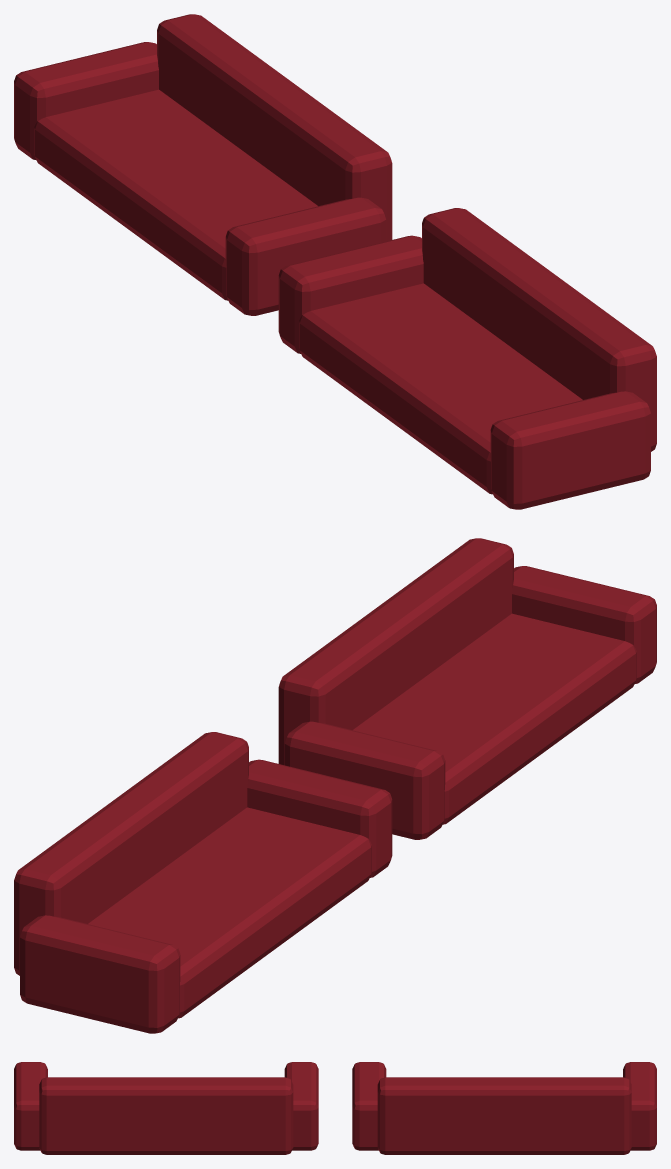
The model's file is Lounge.fbx.
The picture shows the model from 3 angles, top to bottom: view 1: azimuth 30°, elevation 25°; view 2: azimuth 150°, elevation 25°; view 3: azimuth 270°, elevation 25°; orthographic projection. The views are drawn at different scales.
Visible parts, largest first — view 1: SofaSeat0.001; view 2: SofaSeat0.001; view 3: SofaSeat0.001.
Boxes of the visible parts, x1,y1,x2,y2 form: SofaSeat0.001: [14, 14, 656, 509]; SofaSeat0.001: [14, 538, 656, 1033]; SofaSeat0.001: [14, 1062, 656, 1154].
Size of the model in its own units: 590 by 380 by 3040.
